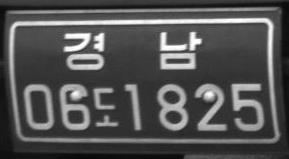0: (22, 82, 55, 131)
1: (121, 82, 147, 131)
2: (193, 82, 229, 133)
5: (230, 82, 265, 132)
6: (58, 82, 91, 131)
8: (155, 82, 190, 132)
경남_D: (62, 30, 202, 72)
도: (91, 85, 120, 128)
